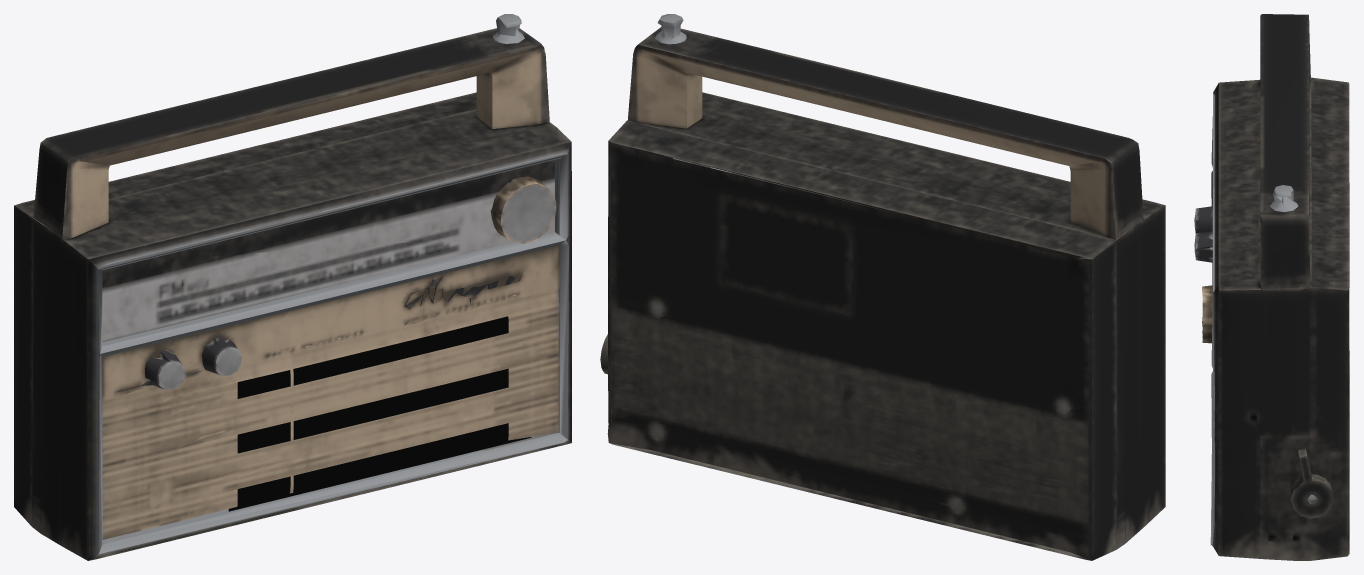
The model's file is radio_ussr.glb.
The picture shows the model from 3 angles, left to right: view 1: azimuth 30°, elevation 25°; view 2: azimuth 150°, elevation 25°; view 3: azimuth 270°, elevation 25°; orthographic projection. The views are drawn at different scales.
Visible parts, largest first — view 1: mesh; view 2: mesh; view 3: mesh.
Part boxes in pixels (x1,y1,x2,y2): mesh: [14, 14, 571, 560]; mesh: [600, 14, 1165, 560]; mesh: [1194, 14, 1349, 560].
Bounding box in the file's own units: 0.3229 × 0.25 × 0.0975.
1 material, 1 textured.
